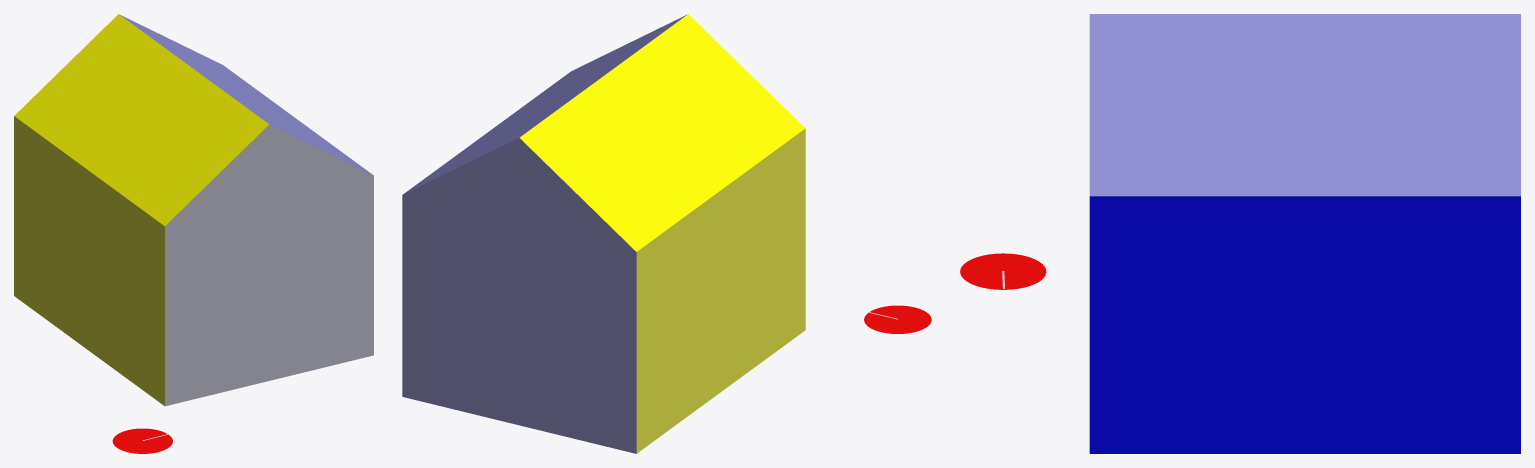
Rendered from result.glb.
3 renders of one model, left to right at view 1: azimuth 30°, elevation 25°; view 2: azimuth 150°, elevation 25°; view 3: azimuth 270°, elevation 25°, orthographic. The views are drawn at different scales.
Visible parts, largest first — view 1: 361f0e2e-284c-4ff0-94a7-426f95e571bb__undefined, b43f25de-f536-4fa1-a91a-43135c556f9b__undefined, acb03ca6-607c-4c98-b2ad-832de3bb8905__undefined, 90cbb744-f401-4876-9075-adc4cb3ee866__undefined, 82903d60-b64f-4f42-9b82-c1b1f11e4844__Circle; view 2: aa78e729-152e-45c1-9f07-e71031ed8d49__undefined, b43f25de-f536-4fa1-a91a-43135c556f9b__undefined, acb03ca6-607c-4c98-b2ad-832de3bb8905__undefined, 90cbb744-f401-4876-9075-adc4cb3ee866__undefined, 82903d60-b64f-4f42-9b82-c1b1f11e4844__Circle; view 3: b8edde21-7494-45a7-bda9-22e73df6b476__undefined, 90cbb744-f401-4876-9075-adc4cb3ee866__undefined, 82903d60-b64f-4f42-9b82-c1b1f11e4844__Circle.
Part boxes in pixels (left/top/right/bottom): 361f0e2e-284c-4ff0-94a7-426f95e571bb__undefined: left=165, top=124, right=373, bottom=406; b43f25de-f536-4fa1-a91a-43135c556f9b__undefined: left=14, top=116, right=164, bottom=405; acb03ca6-607c-4c98-b2ad-832de3bb8905__undefined: left=14, top=14, right=268, bottom=225; 90cbb744-f401-4876-9075-adc4cb3ee866__undefined: left=119, top=14, right=372, bottom=174; 82903d60-b64f-4f42-9b82-c1b1f11e4844__Circle: left=112, top=428, right=172, bottom=453; aa78e729-152e-45c1-9f07-e71031ed8d49__undefined: left=402, top=138, right=636, bottom=453; b43f25de-f536-4fa1-a91a-43135c556f9b__undefined: left=636, top=128, right=805, bottom=453; acb03ca6-607c-4c98-b2ad-832de3bb8905__undefined: left=519, top=14, right=805, bottom=251; 90cbb744-f401-4876-9075-adc4cb3ee866__undefined: left=403, top=14, right=687, bottom=194; 82903d60-b64f-4f42-9b82-c1b1f11e4844__Circle: left=864, top=305, right=931, bottom=333; b8edde21-7494-45a7-bda9-22e73df6b476__undefined: left=1089, top=196, right=1520, bottom=453; 90cbb744-f401-4876-9075-adc4cb3ee866__undefined: left=1089, top=14, right=1520, bottom=196; 82903d60-b64f-4f42-9b82-c1b1f11e4844__Circle: left=960, top=253, right=1046, bottom=289.
Size of the model in its own units: 550 by 469 by 650.
